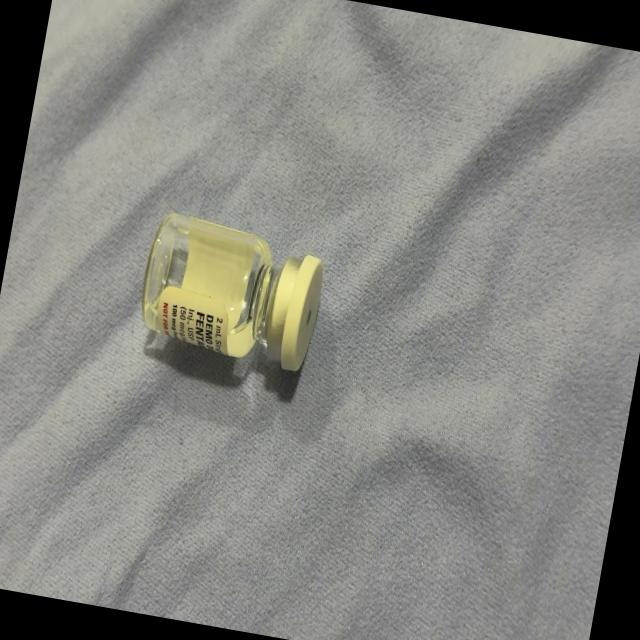fentanl_citrat: (134, 212, 326, 381)
